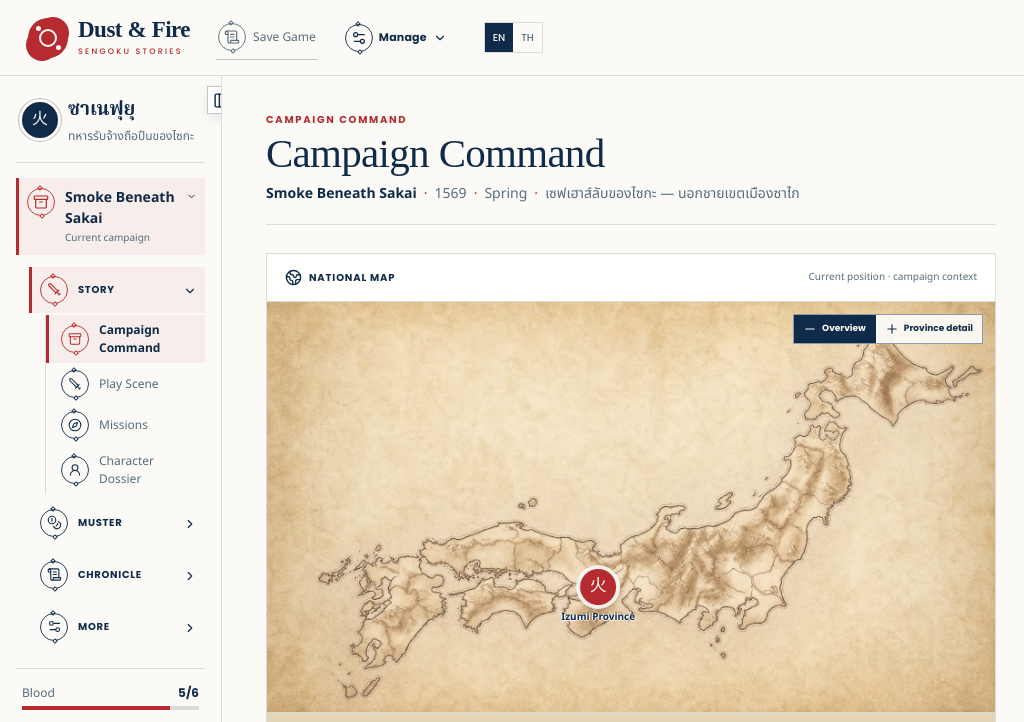
UI Preview click flow › presents World Archive cards as readonly records rather than navigation controls
Click the button "Chronicle". click: point(117, 574)
box: left=29, top=552, right=205, bottom=598
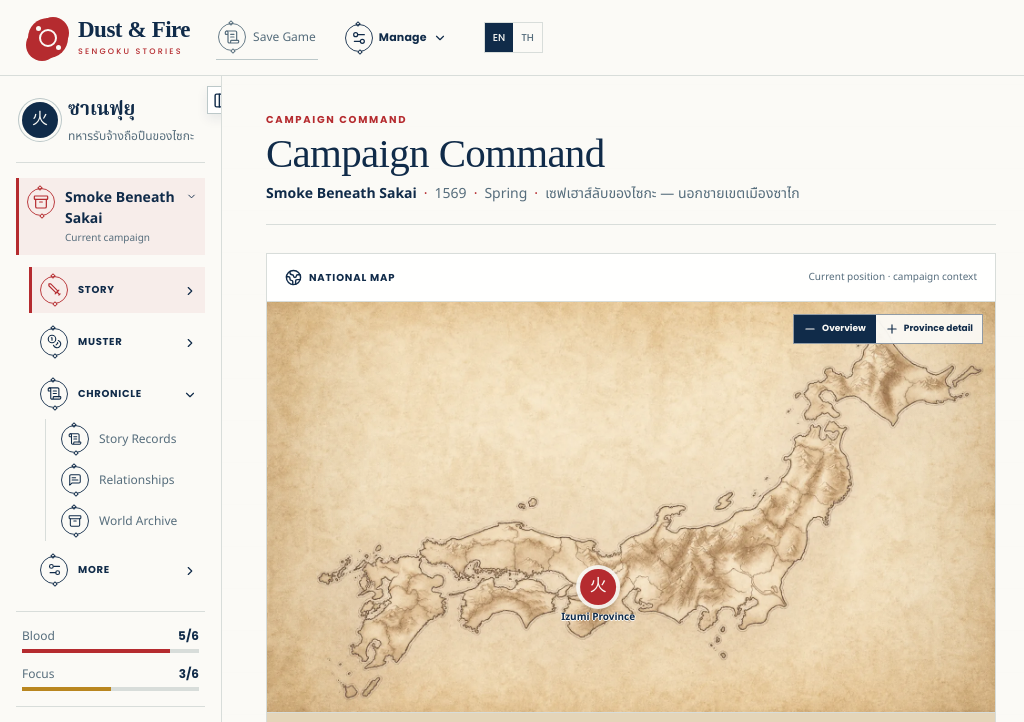
Click the button "World Archive". click: point(126, 520)
box: left=46, top=500, right=205, bottom=540
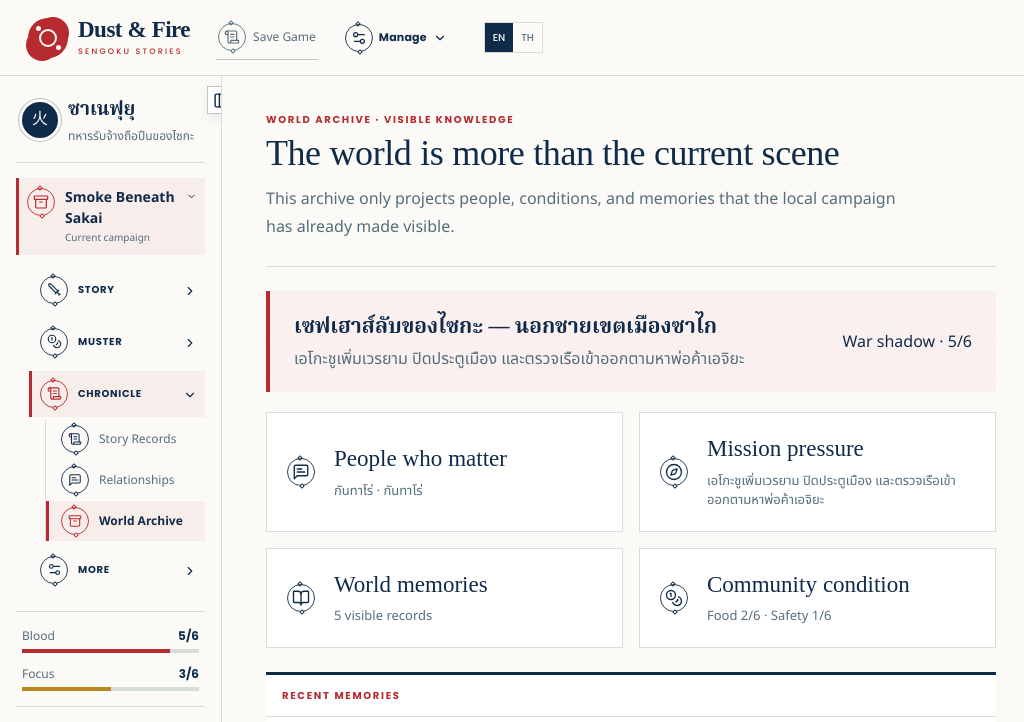
expect the number of elements with test id "archive-record" is 4: met, box left=266, top=412, right=623, bottom=532; left=639, top=412, right=996, bottom=532; left=266, top=548, right=623, bottom=648; left=639, top=548, right=996, bottom=648
